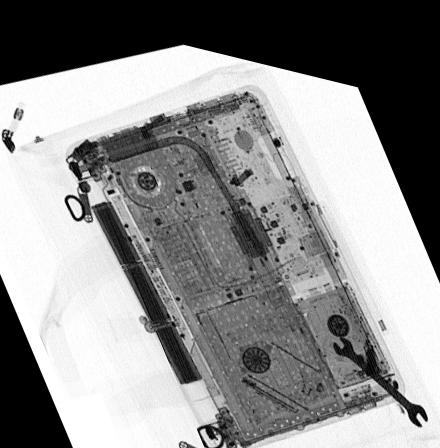Wrench: (332, 317, 430, 405)
